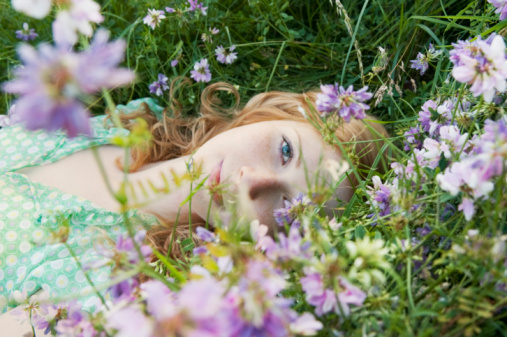deitado: (176, 77, 462, 322)
